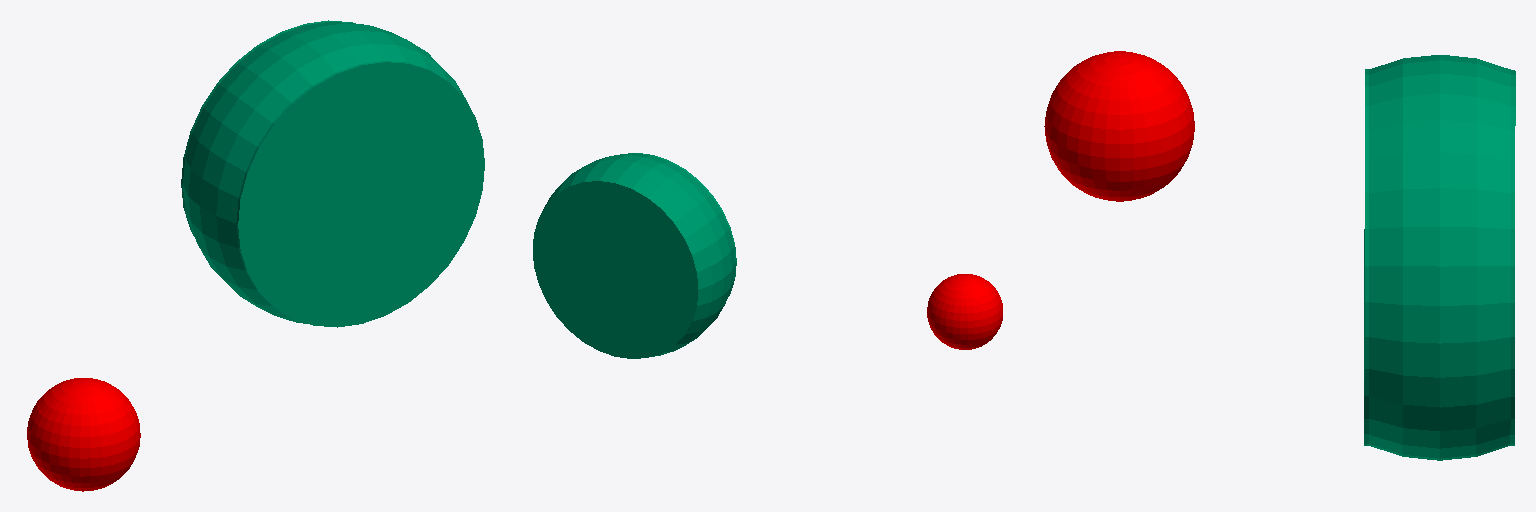
robot.urdf — pioneer2dx:
<?xml version="1.0" encoding="utf-8"?>
<!-- =================================================================================== -->
<!-- |    This document was autogenerated by xacro from model.xacro                    | -->
<!-- |    EDITING THIS FILE BY HAND IS NOT RECOMMENDED                                 | -->
<!-- =================================================================================== -->
<robot name="pioneer2dx">
  <material name="chasis_gazebo">
    <color rgba="1 0 0 1"/>
  </material>
  <material name="ruedas_gazebo">
    <color rgba="0 0 0 1"/>
  </material>
  <link name="base_link"/>
  <joint name="base_link_to_chassis" type="fixed">
    <parent link="base_link"/>
    <child link="chassis"/>
    <origin rpy="0 0 0" xyz="-0.1 0 0"/>
    <!--<pose>-0.1 0 0 0 0 0</pose>-->
  </joint>
  <link name="chassis">
    <origin rpy="0 0 0" xyz="0 0 0.16"/>
    <inertial>
      <mass value="20.0"/>
      <inertia ixx="0.176" ixy="0" ixz="0" iyy="0.393" iyz="0" izz="0.473"/>
      <!-- Inertia of a cuboid, it depends on mass>-->
    </inertial>
    <collision name="chasis_collision">
      <geometry>
        <box size="0.445 0.277 0.17"/>
      </geometry>
    </collision>
    <visual name="chasis_visual">
      <origin rpy="0 0 0" xyz="0 0 0.04"/>
      <geometry>
        <mesh filename="package://pioneer2dx/meshes/chassis.dae"/>
      </geometry>
    </visual>
    <collision name="castor_collision">
      <origin rpy="0 0 0" xyz="-0.2 0 -0.10"/>
      <geometry>
        <sphere radius="0.04"/>
      </geometry>
      <surface>
        <friction>
          <ode>
            <mu>0</mu>
            <mu2>0</mu2>
            <slip1>0</slip1>
            <slip2>0</slip2>
          </ode>
        </friction>
      </surface>
    </collision>
    <visual name="castor_visual">
      <origin rpy="0 0 0" xyz="-0.20 0 -0.10"/>
      <geometry>
        <sphere radius="0.04"/>
      </geometry>
      <material name="chasis_gazebo"/>
    </visual>
  </link>
  <link name="left_wheel">
    <inertial>
      <mass value="1.5"/>
      <inertia ixx="4.55e-3" ixy="0.0" ixz="0.0" iyy="7.5e-3" iyz="0.0" izz="4.55e-3"/>
    </inertial>
    <collision name="left_collision">
      <origin rpy="1.57 0 0" xyz="0 0 0"/>
      <geometry>
        <mesh filename="package://pioneer2dx/meshes/wheel_v5.dae"/>
        <!--21.6cm de diametro por 8cm de ancho perfil esferico -->
      </geometry>
      <surface>
        <friction>
          <ode>
            <mu>1.0</mu>
            <mu2>1.0</mu2>
            <slip1>0</slip1>
            <slip2>0</slip2>
            <maxVel>0.0</maxVel>
            <minDepth>0.001</minDepth>
          </ode>
        </friction>
      </surface>
    </collision>
    <visual name="left_visual">
      <origin rpy="1.57 0 0" xyz="0 0 0"/>
      <geometry>
        <mesh filename="package://pioneer2dx/meshes/wheel_v5.dae"/>
        <!--21.6cm de diametro por 8cm de ancho perfil esferico -->
      </geometry>
    </visual>
  </link>
  <!-- <joint name="${name}_wheel_hinge" type="continuous" >
		<origin xyz="${position}" rpy="0 0 0"/>
		<parent link="chassis"/>
		<child link="${name}_wheel"/>
		<axis xyz="0 1 0"/>
		<limit effort="100" velocity="12" />
		<safety_controller k_velocity="10" />


	    <limit effort="30" velocity="1" lower="-7" upper="7" />
    </joint>-->
  <!--
    <gazebo reference="${name}_wheel">
		<axis>
			    <xyz>0 1 0</xyz>
			    <limit>
				    <velocity>0.2</velocity>
				    <effort>-1</effort>
			    </limit>
		</axis>
	<physics>
	    <provide_feedback>True</provide_feedback>
	</physics>
    </gazebo>-->
  <joint name="left_dc_motor" type="continuous">
    <parent link="chassis"/>
    <child link="left_wheel"/>
    <origin rpy="1.57 0 0" xyz="0.1 0.17 -0.037"/>
    <axis xyz="0 0 1"/>
    <!-- <axis xyz="0 0 0.2"/> -->
    <dynamics damping="0.005" friction="0.01"/>
  </joint>
  <gazebo reference="left_dc_motor">
    <provideFeedback>true</provideFeedback>
  </gazebo>
  <gazebo>
    <plugin filename="libgazebo_ros_dc_motor.so" name="motor_plugin">
      <motor_shaft_joint>left_dc_motor</motor_shaft_joint>
      <motor_wrench_frame>left_wheel</motor_wrench_frame>
      <command_topic>left_dc_motor/command</command_topic>
      <velocity_topic>left_dc_motor/velocity</velocity_topic>
      <encoder_topic>left_dc_motor/encoder</encoder_topic>
      <current_topic>left_dc_motor/current</current_topic>
      <supply_topic>left_dc_motor/supply_voltage</supply_topic>
      <publish_encoder>True</publish_encoder>
      <publish_velocity>True</publish_velocity>
      <publish_current>False</publish_current>
      <publish_motor_joint_state>True</publish_motor_joint_state>
      <update_rate>100.0</update_rate>
      <motor_nominal_voltage>24.0</motor_nominal_voltage>
      <moment_of_inertia>0.001</moment_of_inertia>
      <armature_damping_ratio>0.0001</armature_damping_ratio>
      <electromotive_force_constant>0.03</electromotive_force_constant>
      <electric_resistance>13.8</electric_resistance>
      <electric_inductance>0.001</electric_inductance>
      <gear_ratio>72.0</gear_ratio>
      <encoder_ppr>111</encoder_ppr>
      <rosDebugLevel>Debug</rosDebugLevel>
    </plugin>
  </gazebo>
  <!-- Fuente: http://gazebosim.org/tutorials?tut=ros_gzplugins -->
  <!-- Plugins -->
  <!-- camera -->
  <!--<xacro:Camara_config name="Camara_1"/>-->
  <!--<xacro:include filename="$(find pioneer2dx)/plugins/camera_stereo_plug.xacro"/>-->
  <!--<xacro:include filename="$(find pioneer2dx)/plugins/camera_stereo_plug_groundtruth.xacro"/>-->
  <!--<xacro:include filename="$(find pioneer2dx)/plugins/lidar_plug.xacro"/>-->
  <!--<xacro:lidar_link name="Lidar_horizontal" posrpy="0 0 0" posz="0.3"/>-->
  <!--<xacro:lidar_config name="Lidar_horizontal"/>-->
  <!--<xacro:lidar_link name="Lidar_vertical" posrpy="1.5 0 1.5" posz="0.4"/>
    <xacro:lidar_config name="Lidar_vertical"/>-->
  <!--<xacro:include filename="./plugins/differential_plug.xacro"/>-->
  <!--<xacro:include filename="$(find pioneer2dx)/plugins/transmition_velocity.xacro"/>-->
  <!--<xacro:include filename="$(find pioneer2dx)/plugins/transmition_effort.xacro"/>-->
  <!--<xacro:include filename="$(find pioneer2dx)/plugins/transmition_effort_manual.xacro"/>-->
  <!--  <plugin filename="libDiffDrivePlugin.so" name="diff_drive">
	      <left_joint>left_wheel_hinge</left_joint>
	      <right_joint>right_wheel_hinge</right_joint>
	      <torque>5</torque>
    </plugin> -->
</robot>

--- What the picture shows (computed from the rendered views, not written in the file) ---
Views: 3 orthographic renders of the robot side by side, from view 1: azimuth 30°, elevation 25°; view 2: azimuth 150°, elevation 25°; view 3: azimuth 270°, elevation 25°.
Model pioneer2dx with 3 links and 2 joints (1 continuous, 1 fixed), rooted at base_link, posed every joint at zero.
Visible links, largest first — view 1: left_wheel, chassis; view 2: left_wheel, chassis; view 3: left_wheel, chassis.
Link boxes in pixels (left/top/right/bottom): left_wheel: left=181, top=20, right=484, bottom=327; chassis: left=27, top=378, right=140, bottom=491; left_wheel: left=533, top=153, right=736, bottom=358; chassis: left=927, top=274, right=1002, bottom=349; left_wheel: left=1364, top=55, right=1515, bottom=460; chassis: left=1044, top=51, right=1194, bottom=201.
Size in the robot's own frame: 0.448 by 0.2502 by 0.216 metres.
1 mesh visuals loaded from 2 distinct referenced files (1 Collada DAE); not drawn: 1 (reference not matched to a file when rendering).
